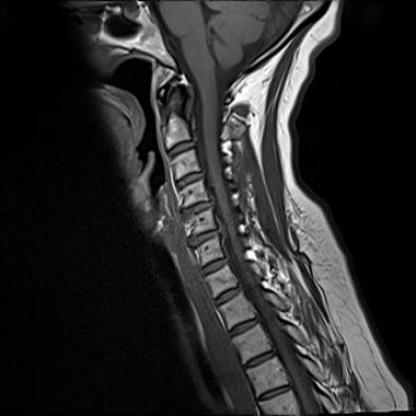Osteophytesrotation: (179, 200, 215, 217), (187, 230, 221, 246)
